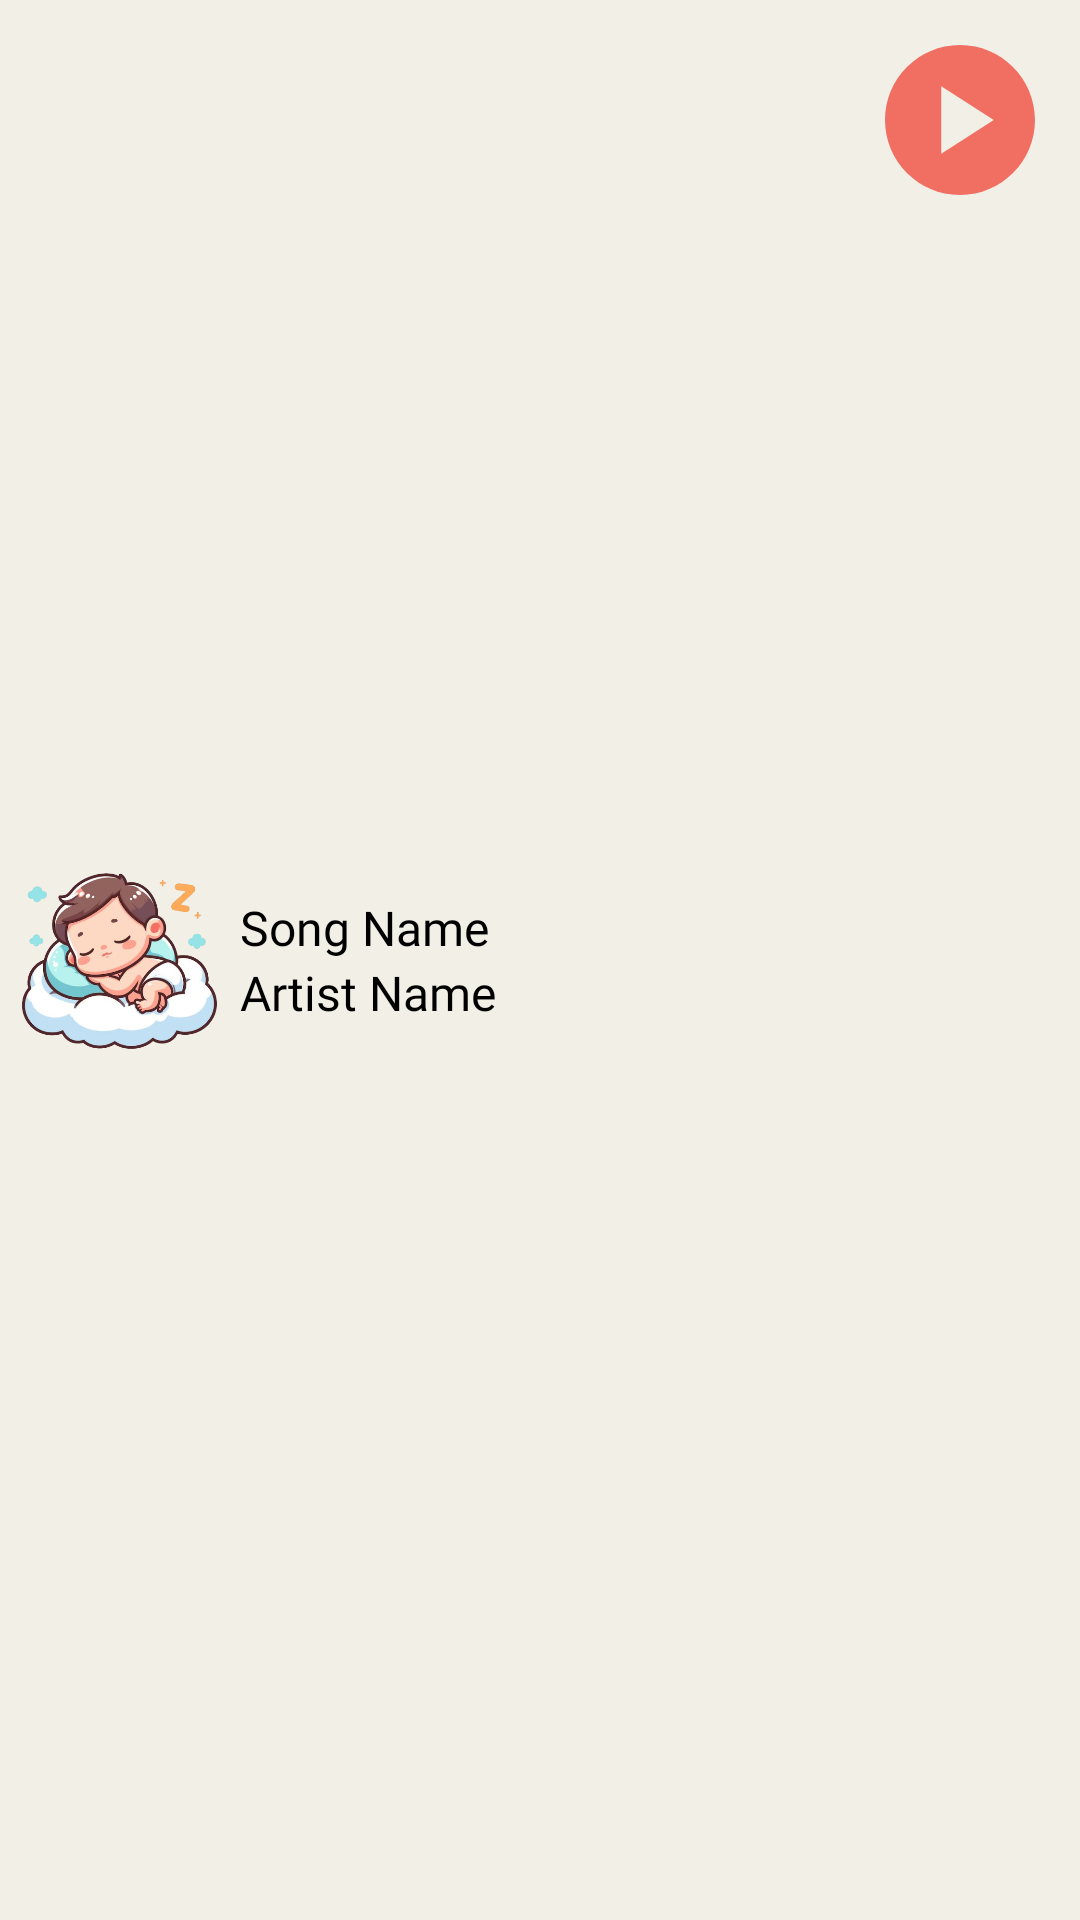

Icons on this 1080 x 1920 Android screen, each with the point to tap as (x=x, y=y):
baby: (x=119, y=961)
play circle: (x=960, y=120)
